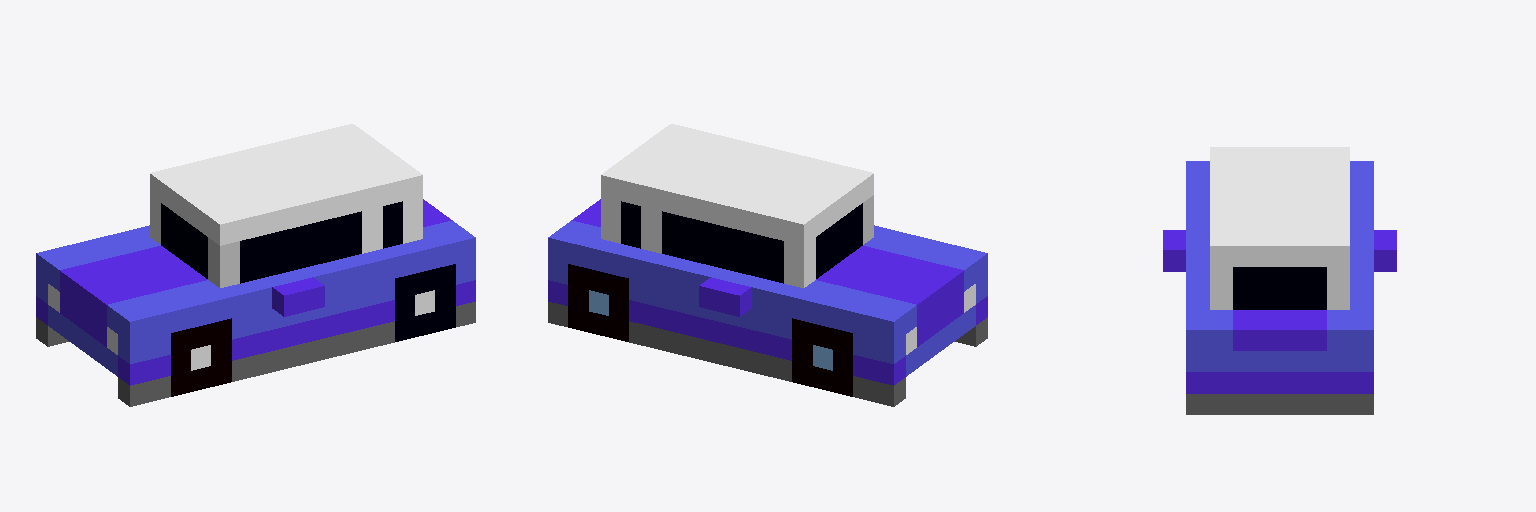
3 views of the same model, side by side, from view 1: azimuth 30°, elevation 25°; view 2: azimuth 150°, elevation 25°; view 3: azimuth 270°, elevation 25° (orthographic).
Parts seen in each view (by area): view 1: object 1; view 2: object 1; view 3: object 1.
Boxes of the visible parts, x1=… form: object 1: x1=36, y1=124, x2=475, y2=406; object 1: x1=548, y1=124, x2=987, y2=406; object 1: x1=1163, y1=147, x2=1396, y2=414.
Size of the model in its own units: 1.7 by 0.7 by 1.
Materials: 1 (1 with a texture image).